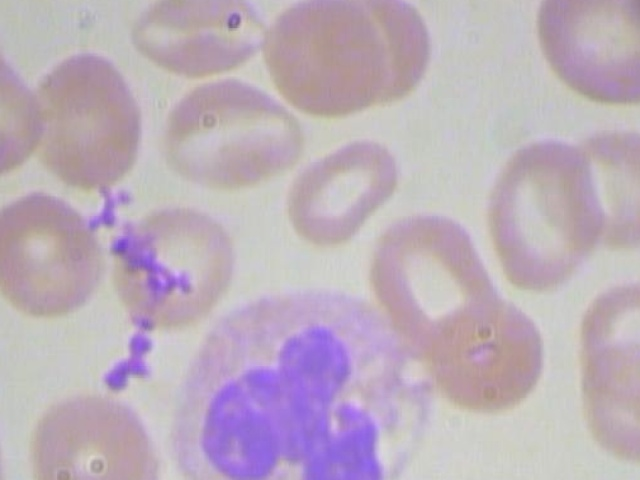RBC: (476, 135, 610, 295), (154, 68, 316, 192), (110, 194, 236, 333), (25, 47, 151, 186), (421, 285, 547, 424), (258, 0, 388, 127), (280, 125, 402, 258), (0, 184, 103, 322), (550, 116, 640, 255), (530, 0, 640, 112), (31, 387, 158, 480), (119, 0, 270, 78), (0, 44, 50, 180), (0, 0, 136, 3)
WBC: (161, 275, 452, 480)
